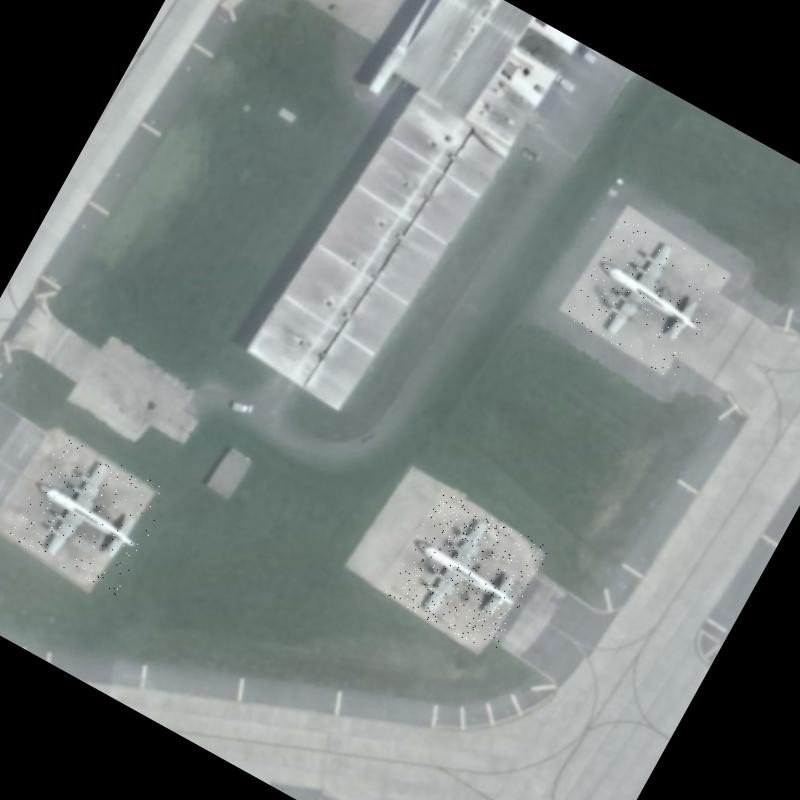A9: (562, 212, 735, 382), (383, 488, 551, 656), (7, 432, 172, 596)
